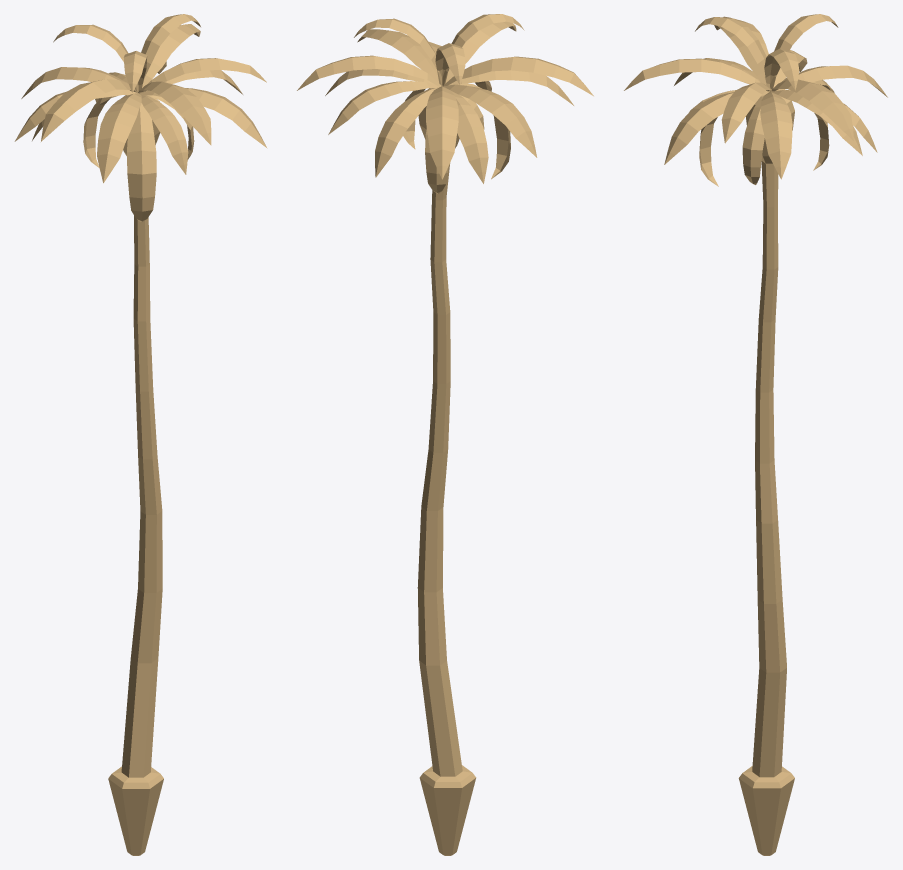
File: Mega_Asset_s_Pack_Cylinder_010.FBX
3 views of the same model, side by side, from view 1: azimuth 30°, elevation 25°; view 2: azimuth 150°, elevation 25°; view 3: azimuth 270°, elevation 25° (orthographic).
Visible parts, largest first — view 1: Mega_Asset_s_Pack_Cylinder_010; view 2: Mega_Asset_s_Pack_Cylinder_010; view 3: Mega_Asset_s_Pack_Cylinder_010.
Part boxes in pixels (box(x1,y1,x2,y2)): Mega_Asset_s_Pack_Cylinder_010: box(14, 14, 267, 855); Mega_Asset_s_Pack_Cylinder_010: box(297, 14, 593, 855); Mega_Asset_s_Pack_Cylinder_010: box(624, 14, 887, 855).
Size of what is drawn, in the model's own units: 418 by 406 by 1394.
